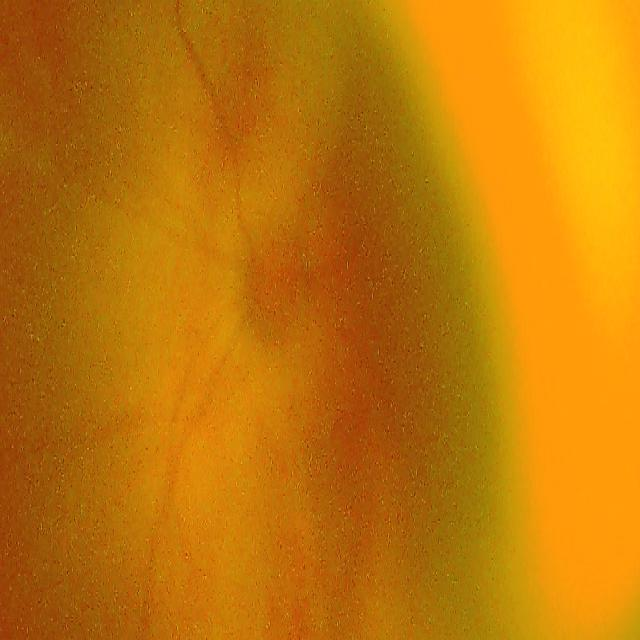optic-nerve: (225, 198, 332, 380)
